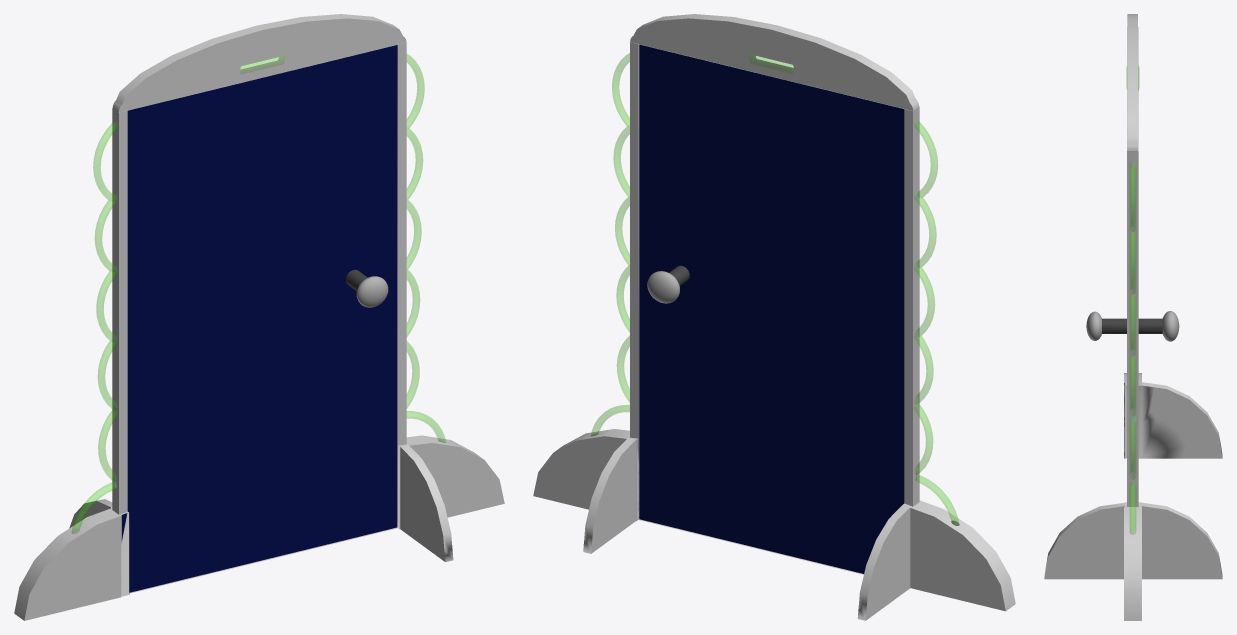
The model's file is door remade.fbx.
3 renders of one model, left to right at view 1: azimuth 30°, elevation 25°; view 2: azimuth 150°, elevation 25°; view 3: azimuth 270°, elevation 25°, orthographic. The views are drawn at different scales.
Visible parts, largest first — view 1: pCylinder7; view 2: pCylinder7; view 3: pCylinder7.
Boxes of the visible parts, bbox=[...] form: pCylinder7: bbox=[14, 14, 504, 620]; pCylinder7: bbox=[533, 14, 1015, 620]; pCylinder7: bbox=[1044, 14, 1222, 620].
Bounding box in the file's own units: 42.64 × 45.04 × 15.5.
